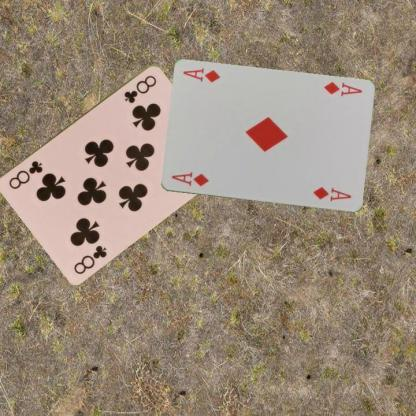8c: (71, 242, 109, 276), (122, 72, 158, 104)
Ad: (168, 169, 210, 188), (321, 79, 363, 98)
